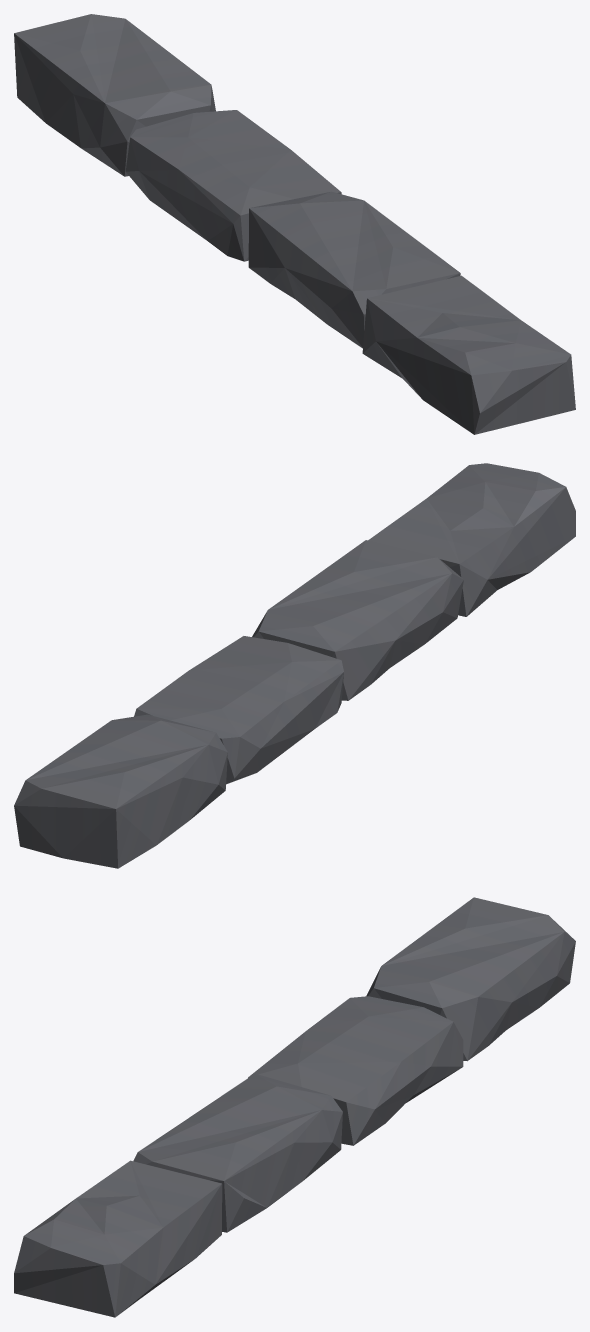
The model's file is Road_1B.fbx.
3 views of the same model, one above another, from view 1: azimuth 30°, elevation 25°; view 2: azimuth 150°, elevation 25°; view 3: azimuth 330°, elevation 25° (orthographic).
Visible parts, largest first — view 1: polySurface10305; view 2: polySurface10305; view 3: polySurface10305.
Boxes of the visible parts, bbox=[...] form: polySurface10305: bbox=[14, 14, 575, 434]; polySurface10305: bbox=[14, 463, 575, 868]; polySurface10305: bbox=[14, 897, 575, 1317].
Size of the model in its own units: 59.95 by 32.02 by 404.
